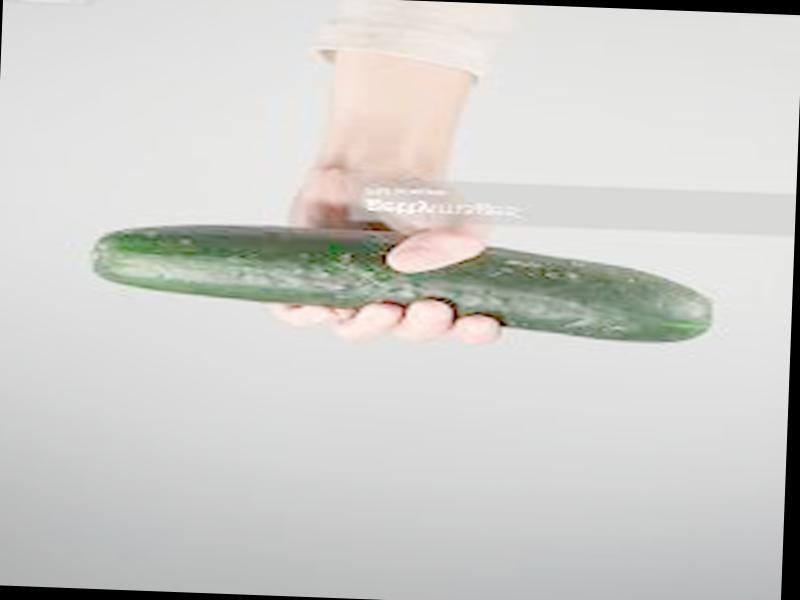Cucumber: (100, 220, 715, 345)
